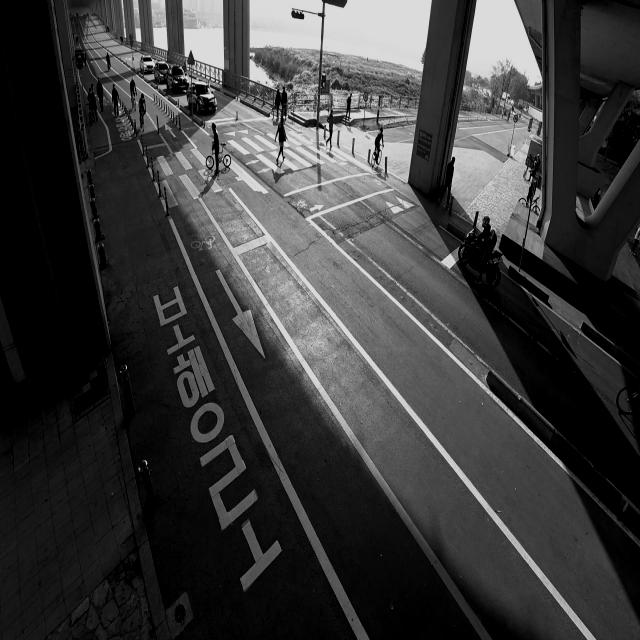Car: (183, 76, 219, 120), (165, 61, 185, 93), (152, 59, 168, 85), (140, 52, 154, 72)
Motorcycle: (457, 212, 503, 288)
